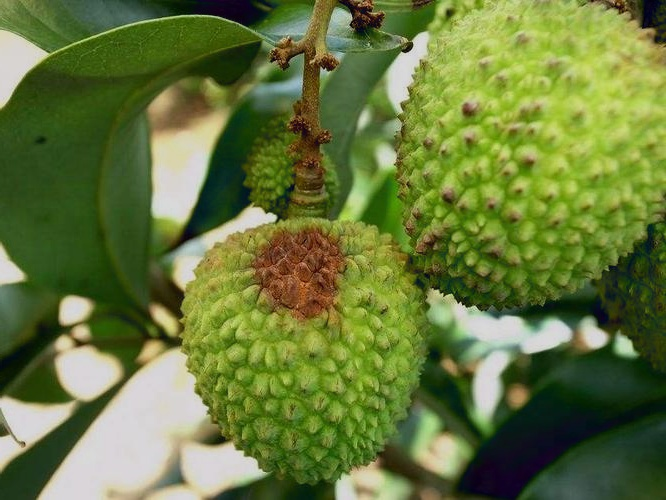Anthracnose: (262, 206, 360, 301)
